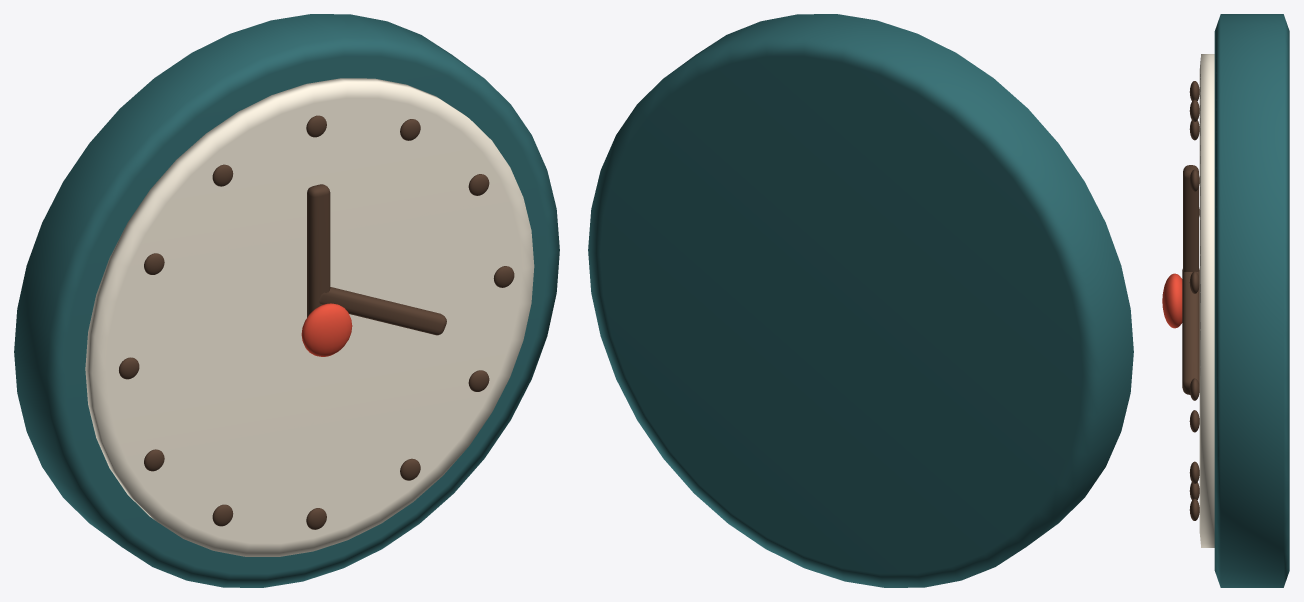
File: wall-clock.obj
The picture shows the model from 3 angles, left to right: view 1: azimuth 30°, elevation 25°; view 2: azimuth 150°, elevation 25°; view 3: azimuth 270°, elevation 25°; orthographic projection. The views are drawn at different scales.
Parts seen in each view (by area): view 1: wall-clock_cream, wall-clock_teal, wall-clock_cocoa, wall-clock_tomato; view 2: wall-clock_teal; view 3: wall-clock_teal, wall-clock_cream, wall-clock_cocoa, wall-clock_tomato.
Part boxes in pixels (x1,y1,x2,y2): wall-clock_cream: [85, 78, 534, 556]; wall-clock_teal: [14, 14, 559, 587]; wall-clock_cocoa: [119, 115, 514, 529]; wall-clock_tomato: [301, 303, 352, 356]; wall-clock_teal: [588, 14, 1133, 587]; wall-clock_teal: [1214, 14, 1289, 587]; wall-clock_cream: [1199, 54, 1214, 547]; wall-clock_cocoa: [1182, 81, 1199, 520]; wall-clock_tomato: [1162, 273, 1182, 328].
Size of the model in its own units: 0.46 by 0.46 by 0.102.
